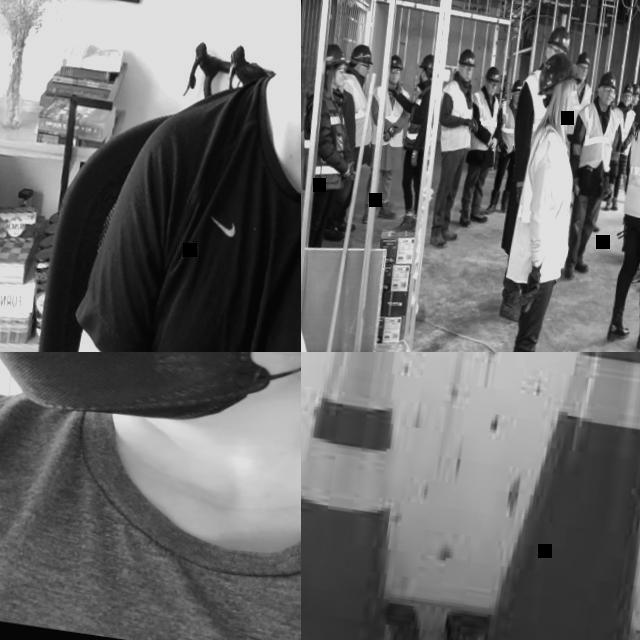helmet: (538, 51, 586, 102), (546, 24, 574, 54), (325, 43, 353, 71), (351, 44, 376, 66), (597, 70, 620, 92), (458, 48, 480, 69), (486, 66, 504, 84), (576, 51, 592, 68), (419, 54, 436, 70), (390, 54, 405, 72), (510, 78, 525, 95), (622, 82, 636, 96), (632, 82, 640, 96), (612, 91, 617, 102), (500, 74, 508, 80)
mask: (0, 352, 301, 451), (418, 70, 426, 84)
no_mask: (334, 74, 346, 88), (600, 95, 614, 106), (459, 73, 472, 84), (568, 103, 575, 122), (359, 70, 369, 82), (389, 75, 400, 85), (578, 72, 588, 81), (486, 88, 496, 97), (513, 96, 519, 104), (624, 99, 630, 106), (634, 100, 638, 107)
no_vest: (0, 373, 301, 640), (141, 86, 301, 352)
person: (0, 352, 301, 640), (64, 0, 301, 352), (477, 46, 598, 352), (486, 21, 573, 323), (552, 67, 632, 286), (301, 40, 376, 254), (420, 46, 490, 250), (371, 49, 442, 238), (318, 42, 382, 244), (355, 52, 419, 230), (600, 69, 640, 352), (454, 65, 512, 232), (484, 76, 528, 218), (598, 80, 640, 214), (562, 50, 600, 154), (611, 81, 640, 202), (495, 73, 510, 102)
safety_cone: (431, 352, 640, 640), (301, 352, 488, 640)
vest: (507, 120, 588, 288), (301, 91, 359, 196), (332, 72, 381, 150), (514, 66, 556, 156), (572, 100, 624, 172), (434, 80, 480, 158), (367, 83, 412, 149), (465, 89, 503, 155), (621, 111, 640, 222), (403, 82, 432, 153), (493, 98, 522, 155), (566, 82, 595, 137), (607, 106, 637, 156), (628, 109, 638, 146), (498, 83, 509, 103)
